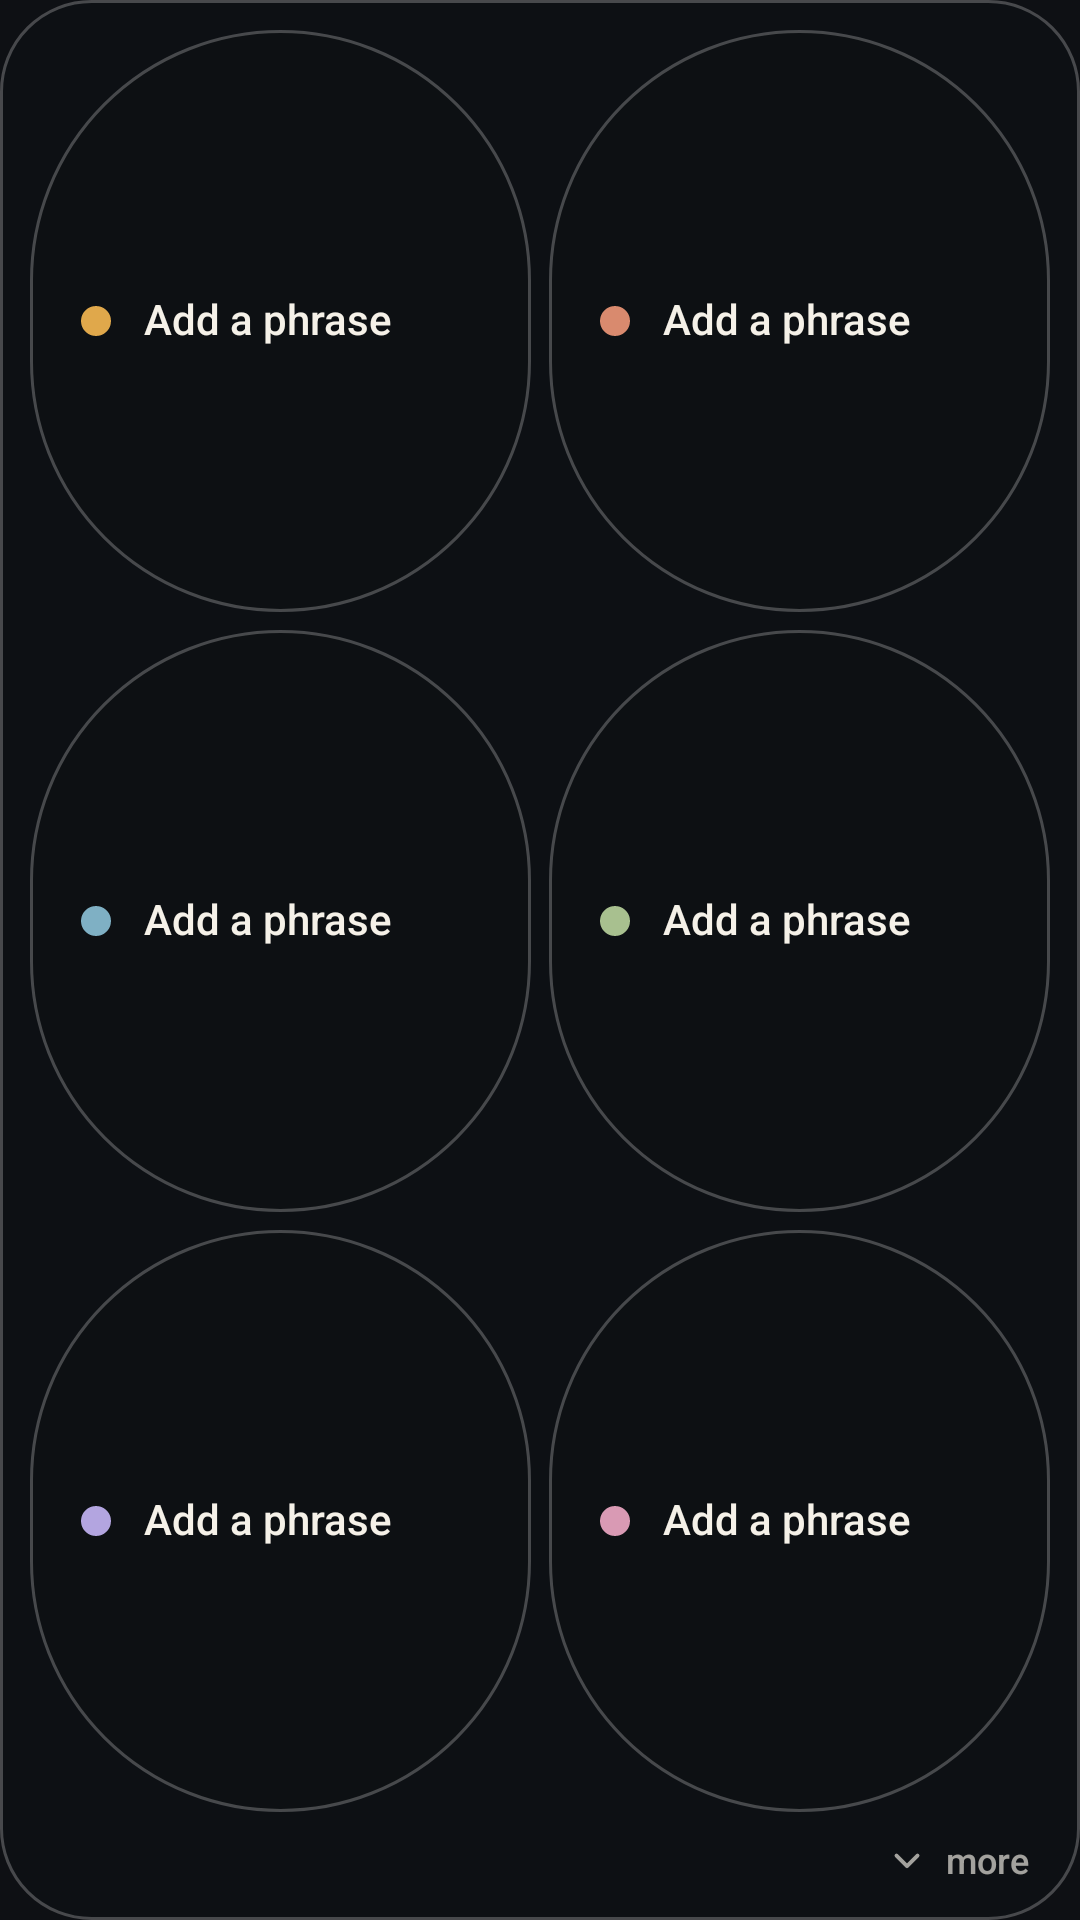

Icons on this 1080×1920 Android screen, each with the point to tap as point (x, y):
chevron: point (907, 1860)
dot: point (96, 321), point (615, 321), point (96, 921), point (615, 921), point (96, 1521), point (615, 1521)
